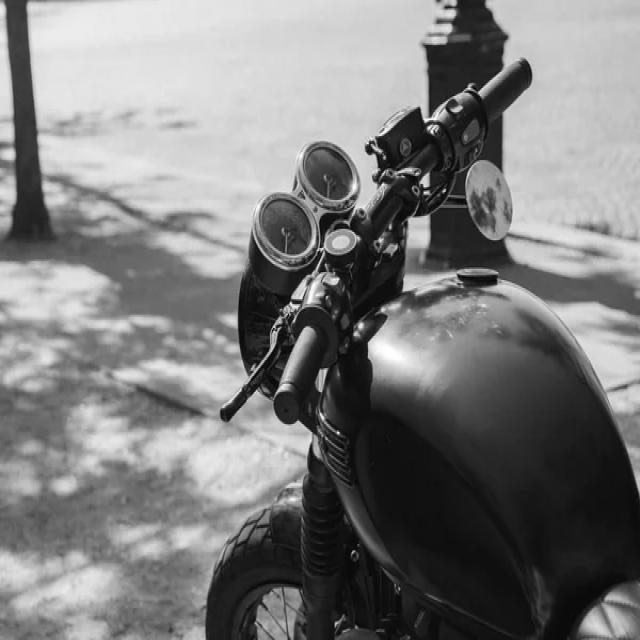Motorcycle: (207, 59, 640, 638)
